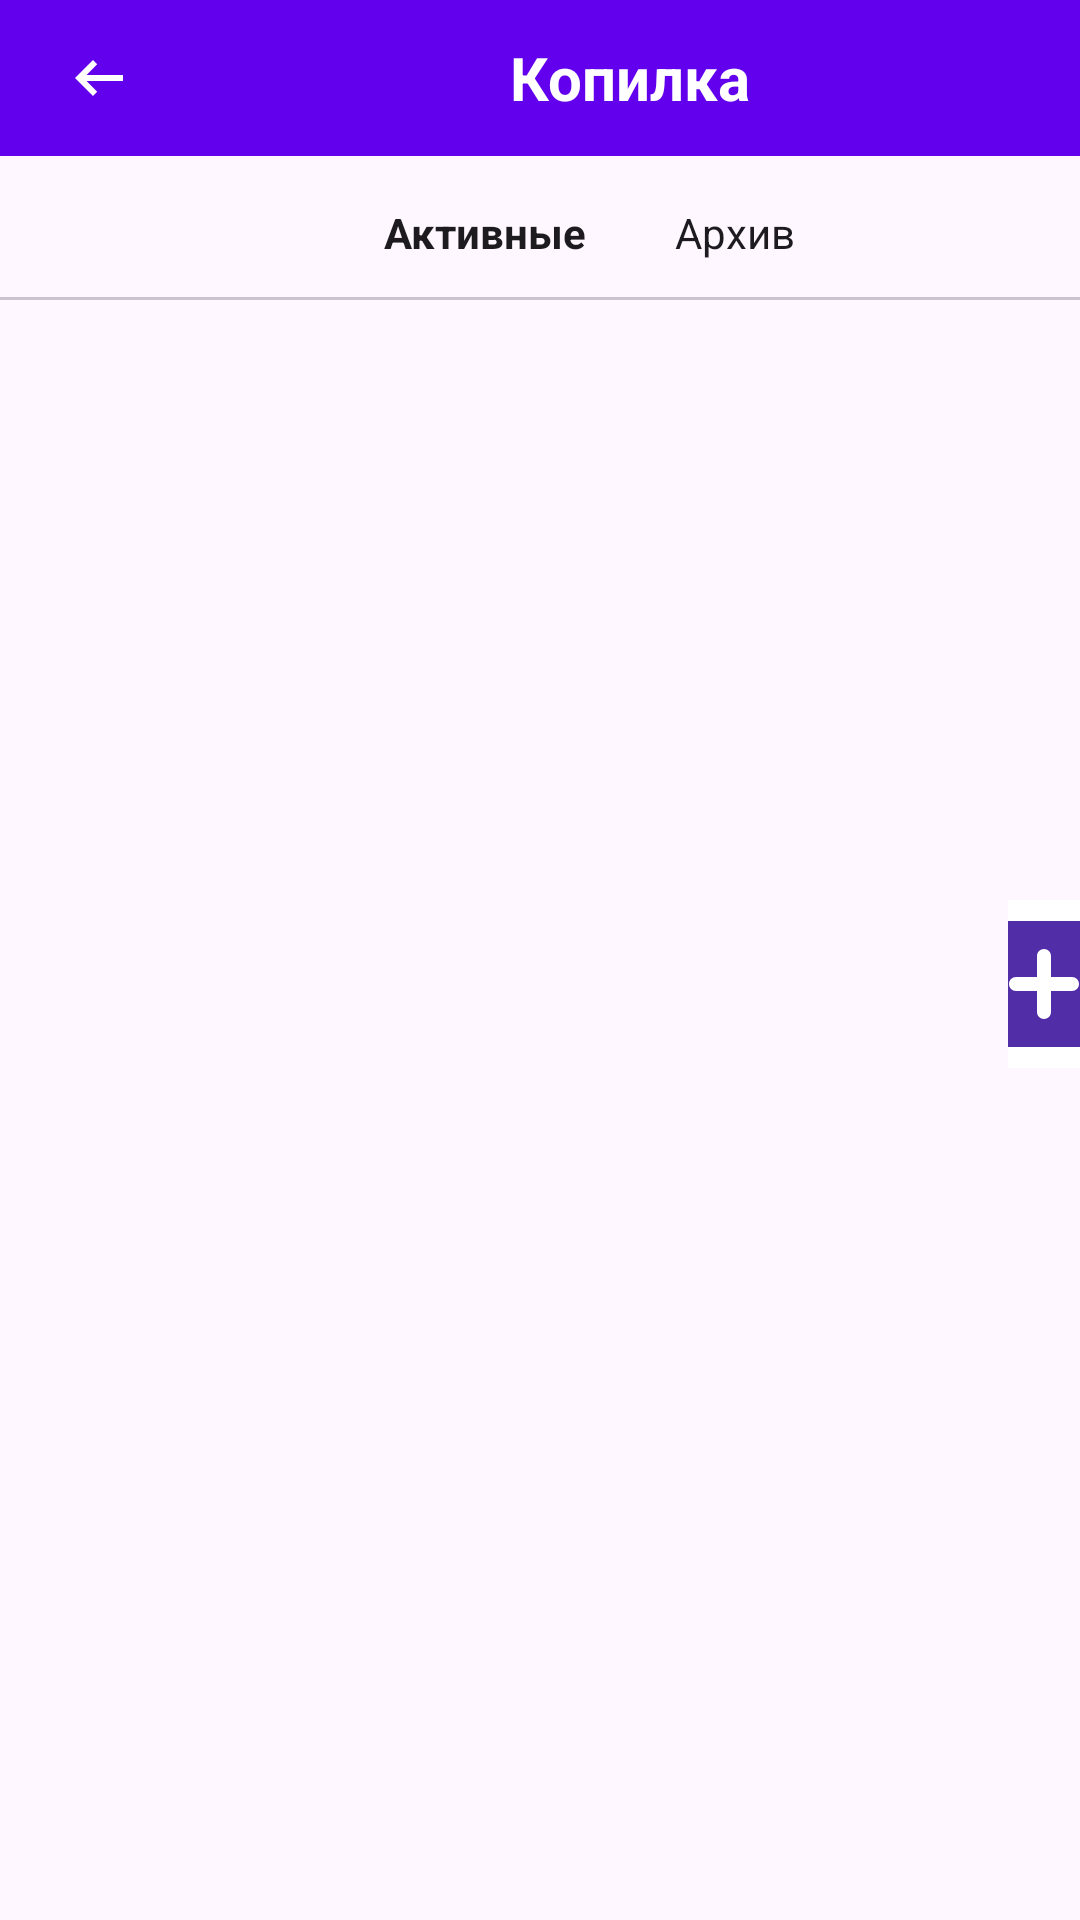

Icons on this 1080 × 1920 Android screen, each with its box as box(x1, y1, x2, y2):
add box: box(1008, 921, 1080, 1047)
left: box(75, 60, 123, 96)
